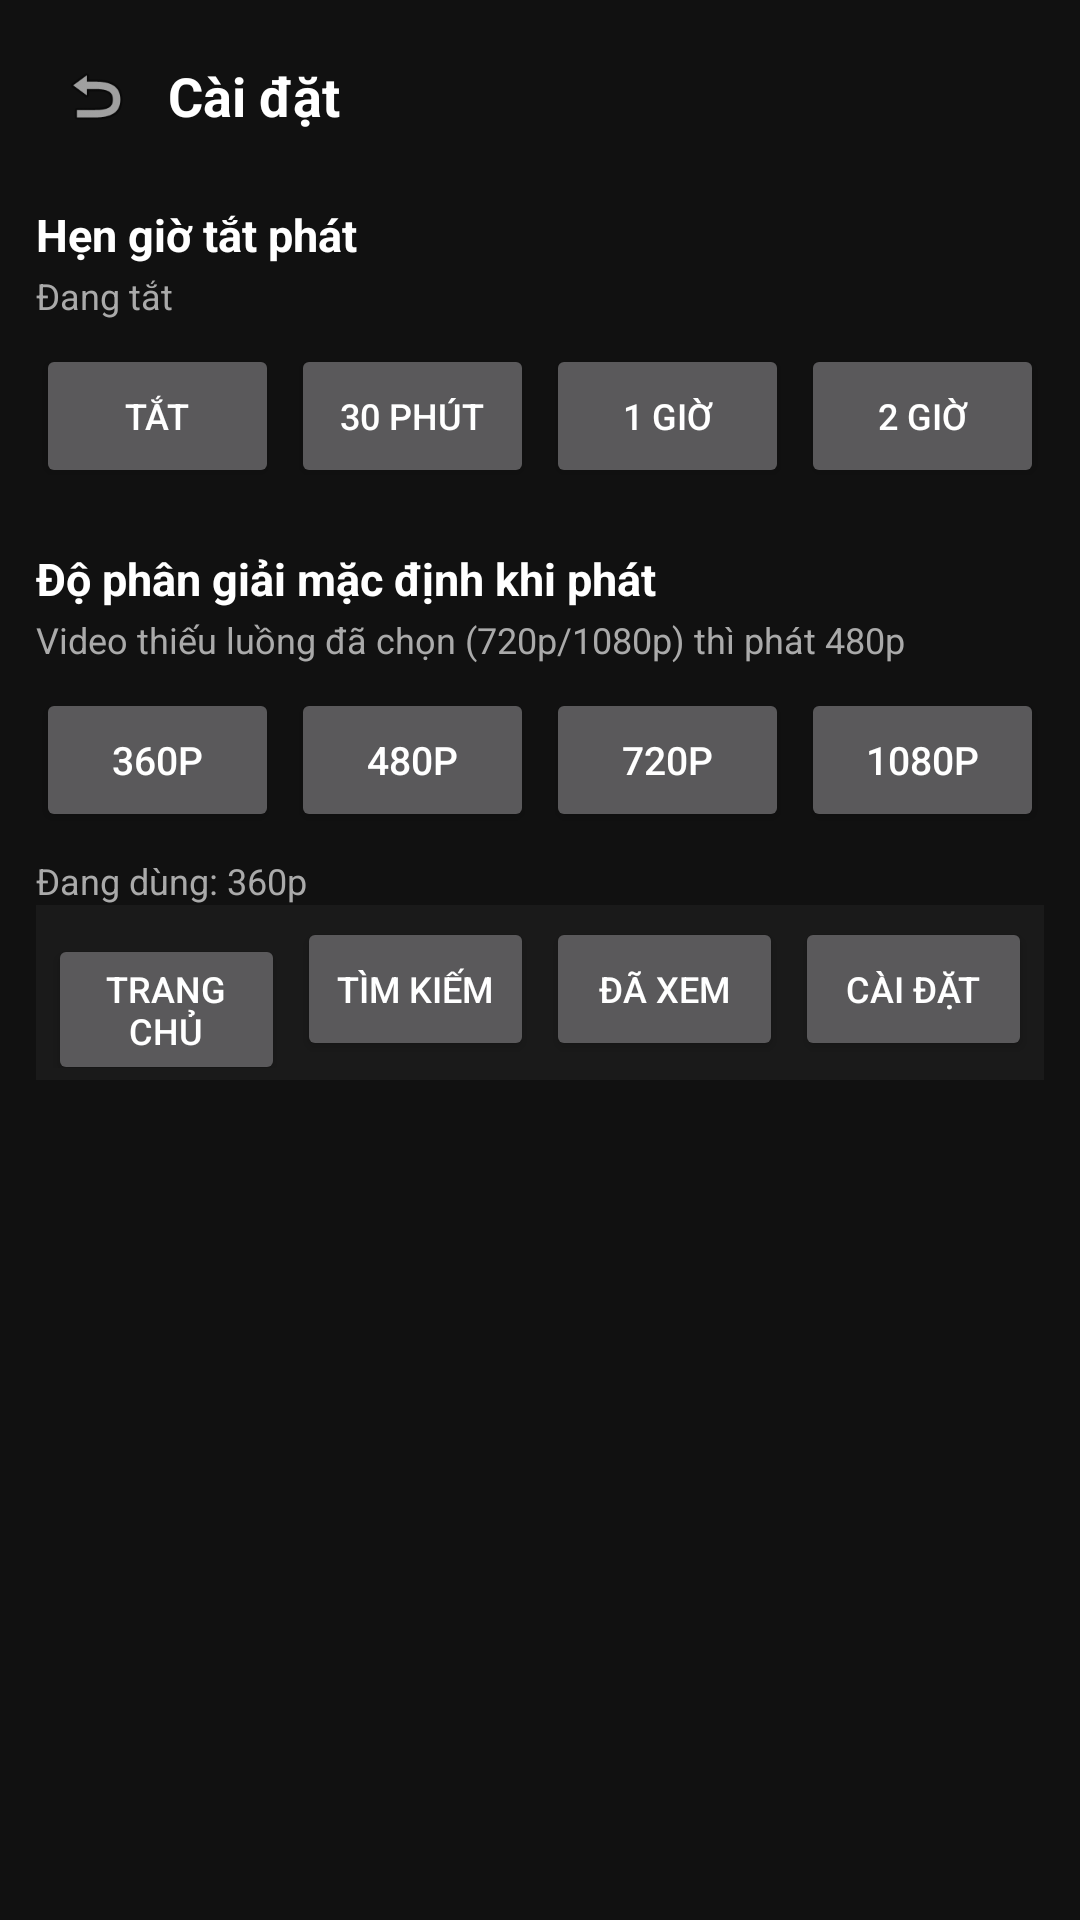

Screen size 1080*1920. Icon name, then its center in pixels as (x=x, y=y):
Quay lại: (x=97, y=96)
